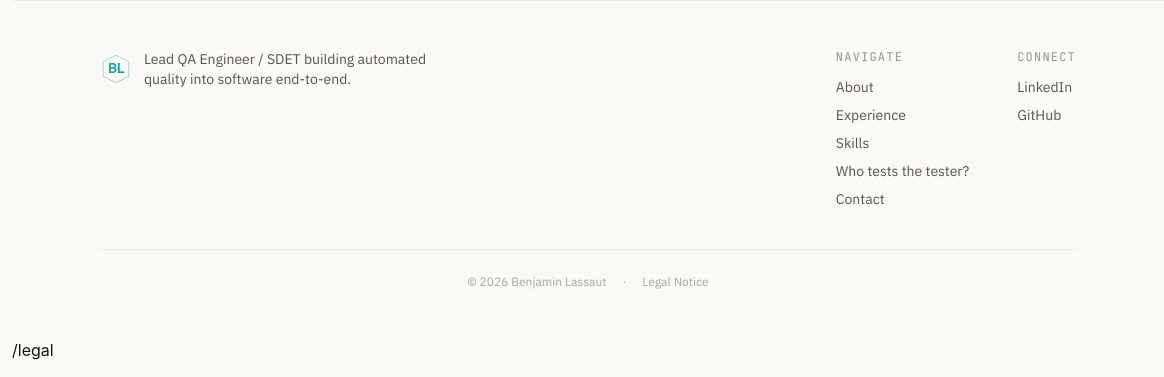
Test: Footer - navigation › goes to the section on the home page when clicking a hash link from another page
Click the link with test id "footer-link-about" at x=855, y=87, box x1=836 y1=78 x2=874 y2=96
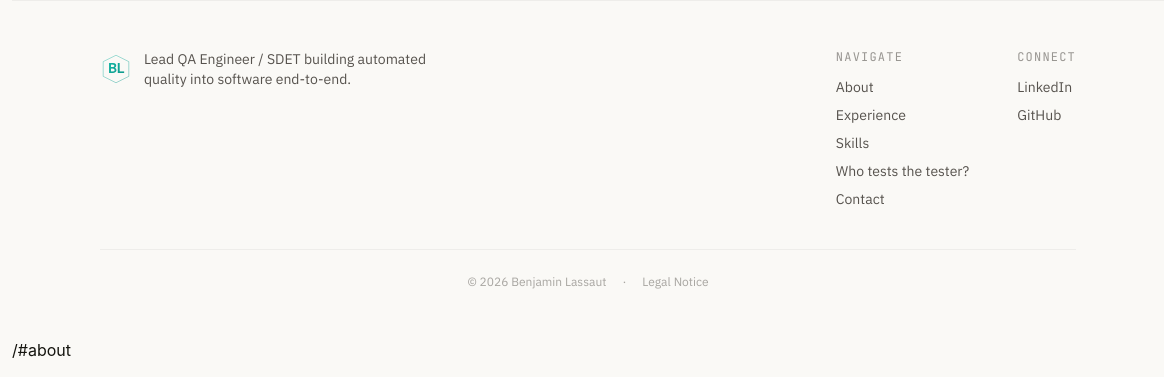
Result: the text with test id "location" reads "/#about" at x1=12 y1=340 x2=71 y2=360
